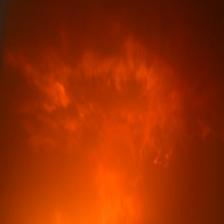fire: (4, 31, 214, 221)
